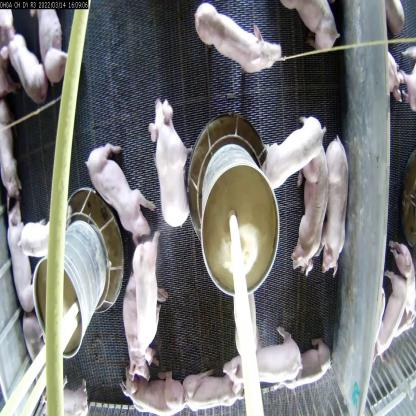Pig: (146, 95, 204, 234), (193, 1, 290, 83), (83, 134, 156, 242), (128, 229, 168, 366), (226, 330, 302, 402), (0, 30, 60, 120), (320, 137, 357, 276), (262, 102, 321, 189), (0, 200, 42, 316), (293, 143, 328, 274), (273, 0, 347, 57), (13, 316, 61, 401), (24, 5, 74, 85), (111, 283, 149, 381), (0, 83, 31, 202), (282, 345, 351, 395), (123, 357, 182, 415), (187, 362, 238, 415), (36, 376, 105, 415), (22, 212, 67, 264)
